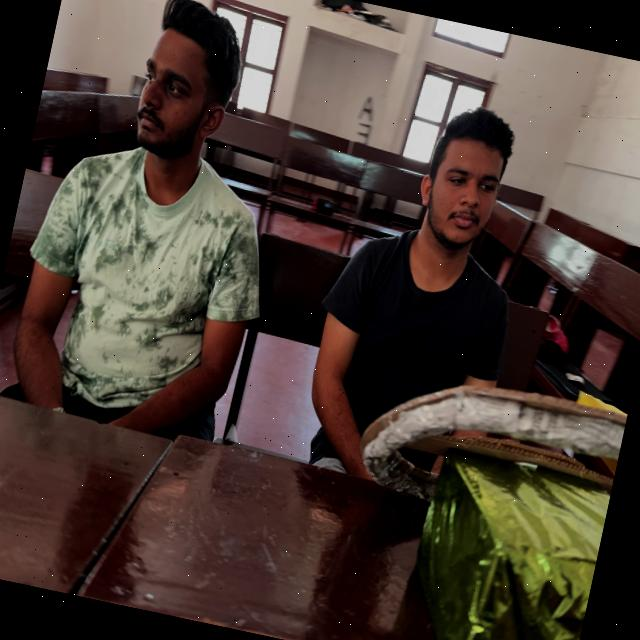no-seatbelt: (0, 137, 286, 472), (284, 228, 526, 510)
